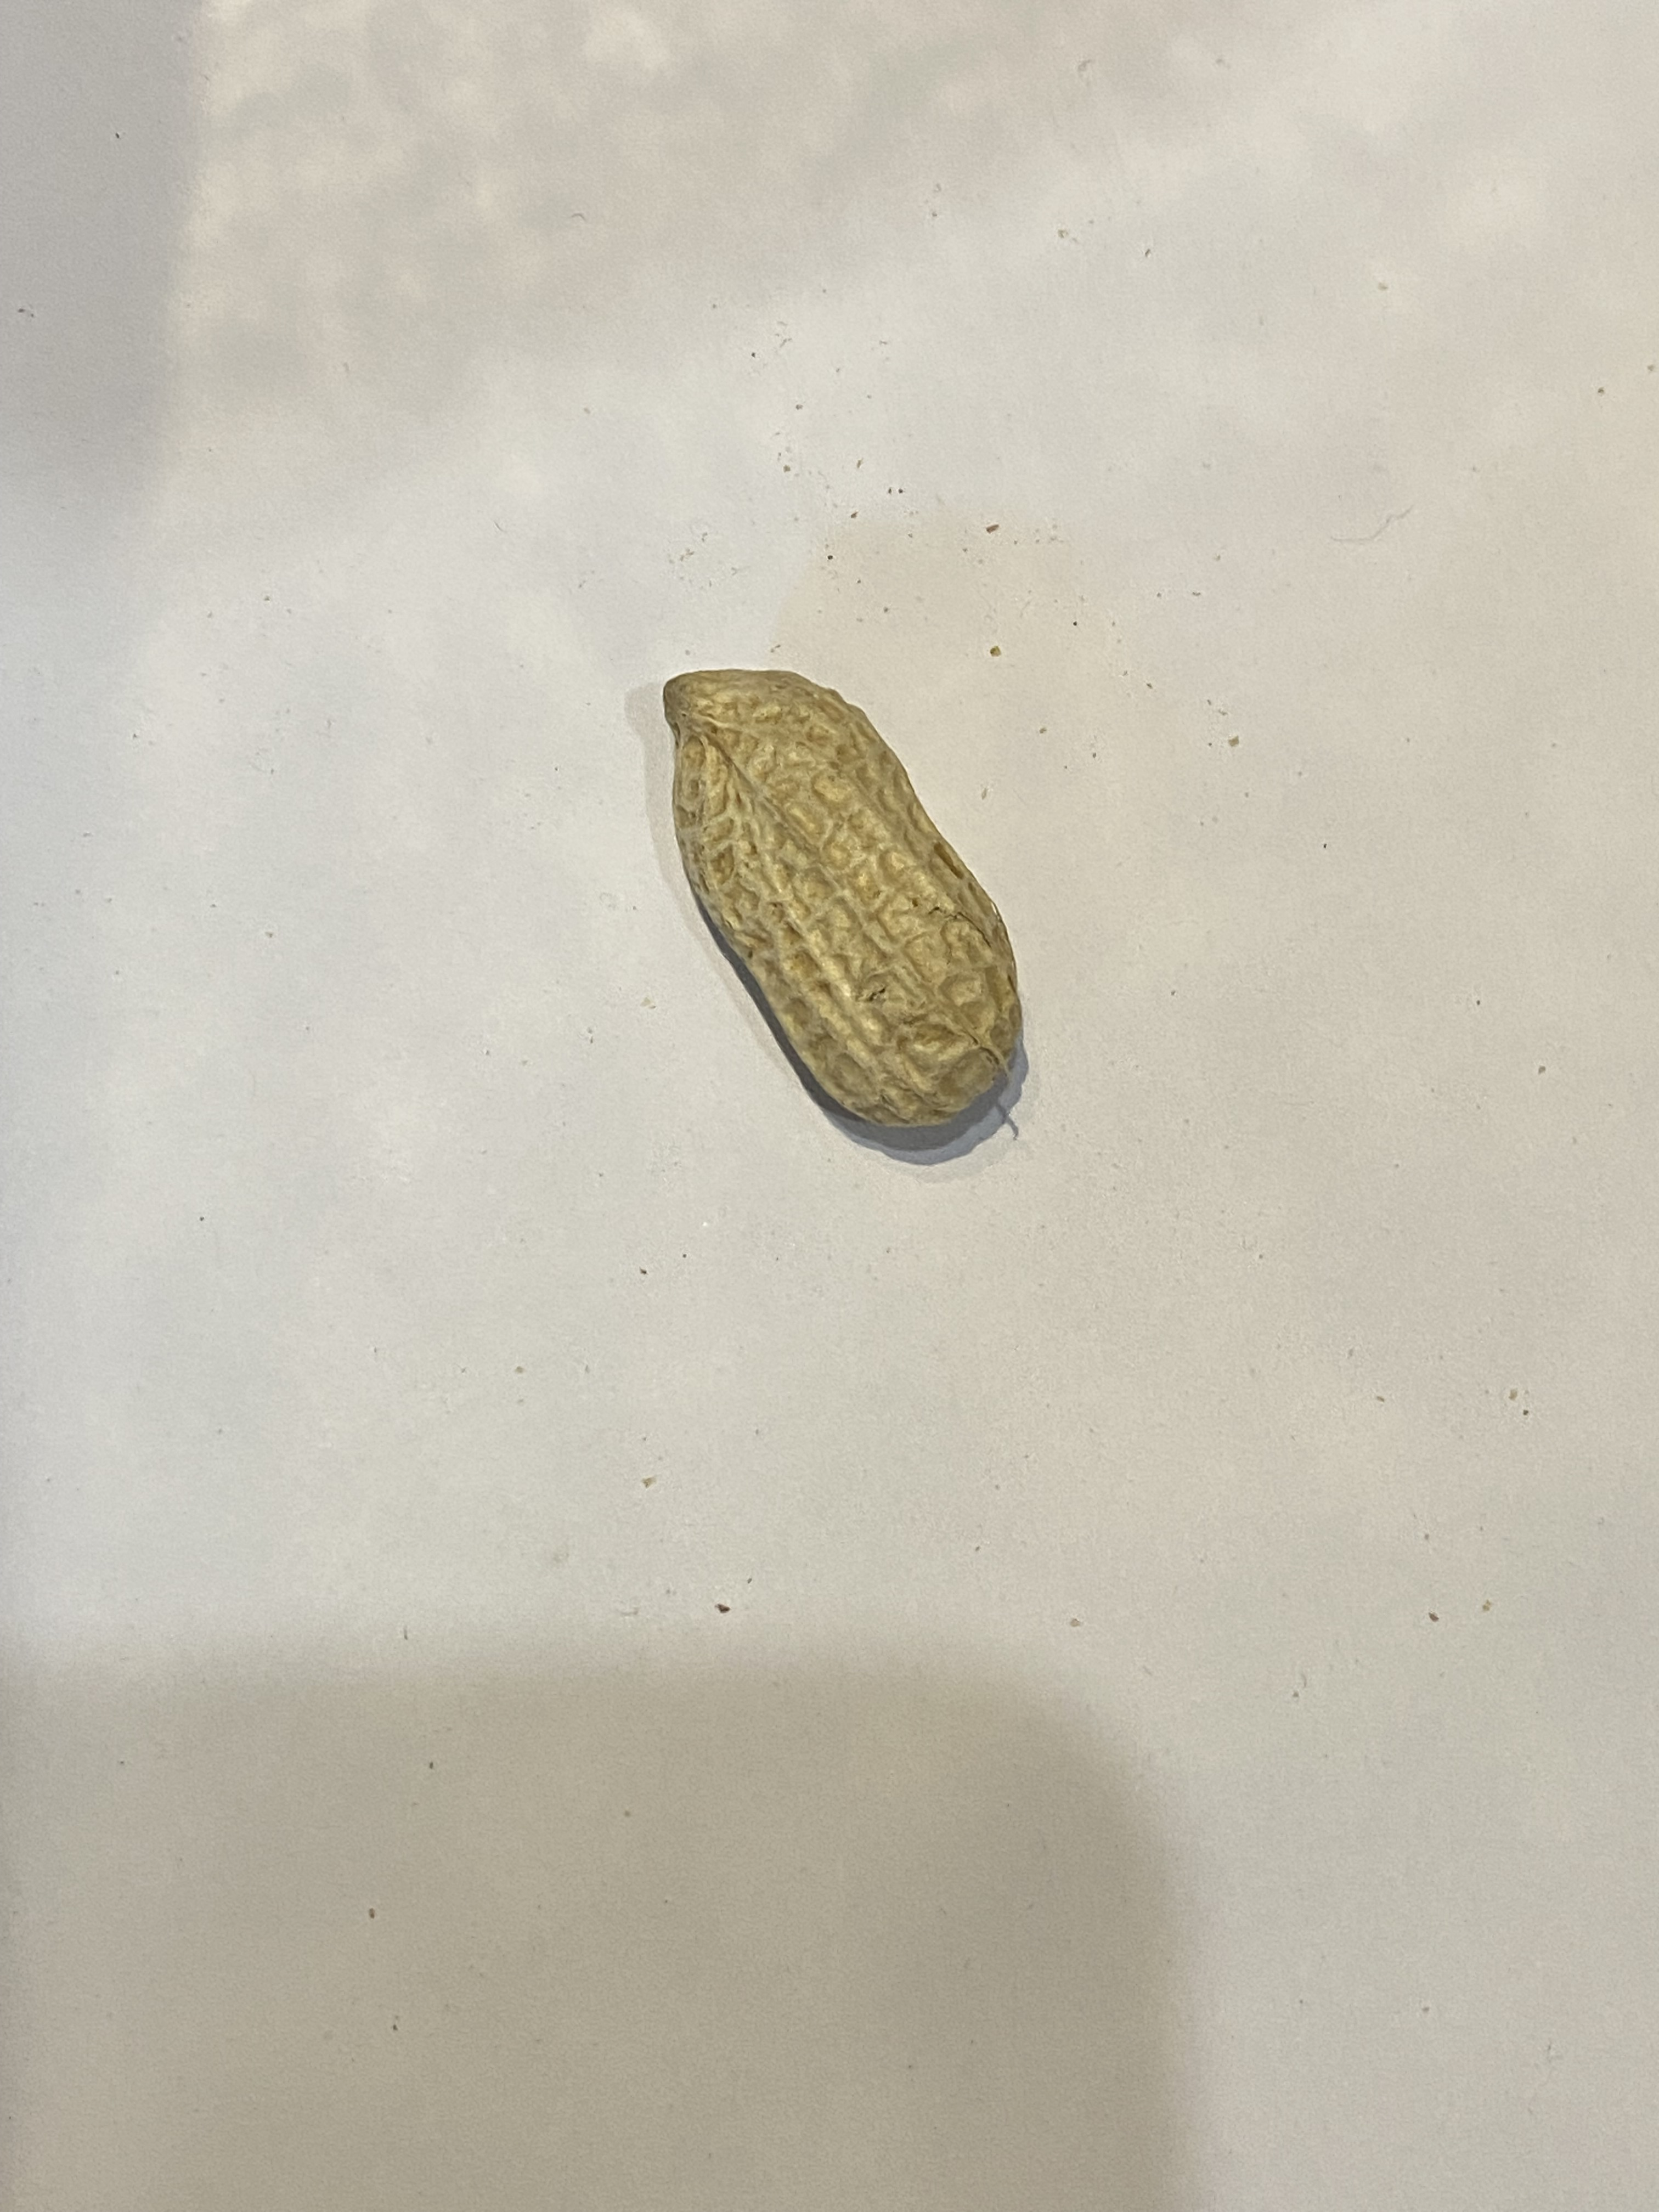kacang2: (608, 650, 1072, 1141)
